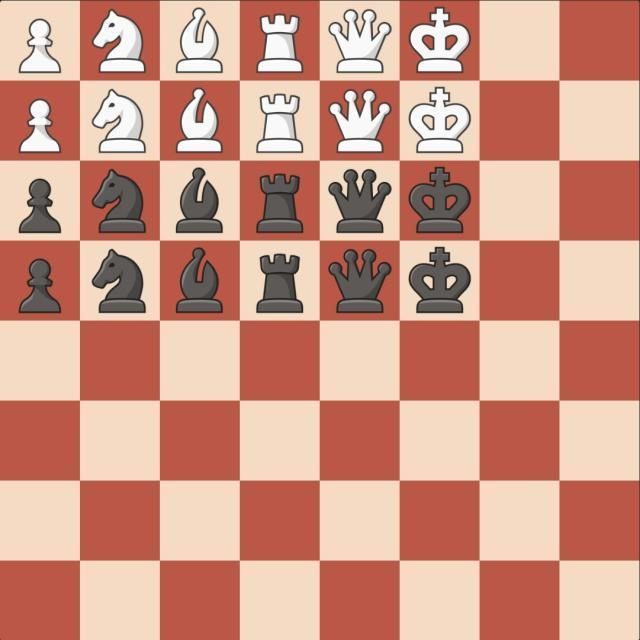black-bishop: (176, 167, 223, 233), (176, 248, 223, 313)
black-king: (408, 167, 472, 234), (408, 246, 471, 313)
black-knight: (91, 249, 146, 314), (92, 168, 147, 233)
black-pawn: (19, 259, 62, 314), (19, 179, 62, 234)
black-queen: (328, 248, 392, 313), (328, 169, 392, 234)
black-rook: (256, 174, 303, 234), (256, 253, 303, 313)
white-bishop: (176, 87, 223, 153), (176, 7, 223, 73)
white-king: (408, 87, 471, 154), (408, 7, 471, 74)
white-knight: (91, 9, 146, 74), (91, 89, 146, 153)
white-pawn: (19, 19, 62, 74), (19, 99, 62, 154)
white-queen: (328, 88, 392, 153), (328, 8, 392, 73)
white-rook: (256, 93, 303, 153), (256, 13, 303, 73)
